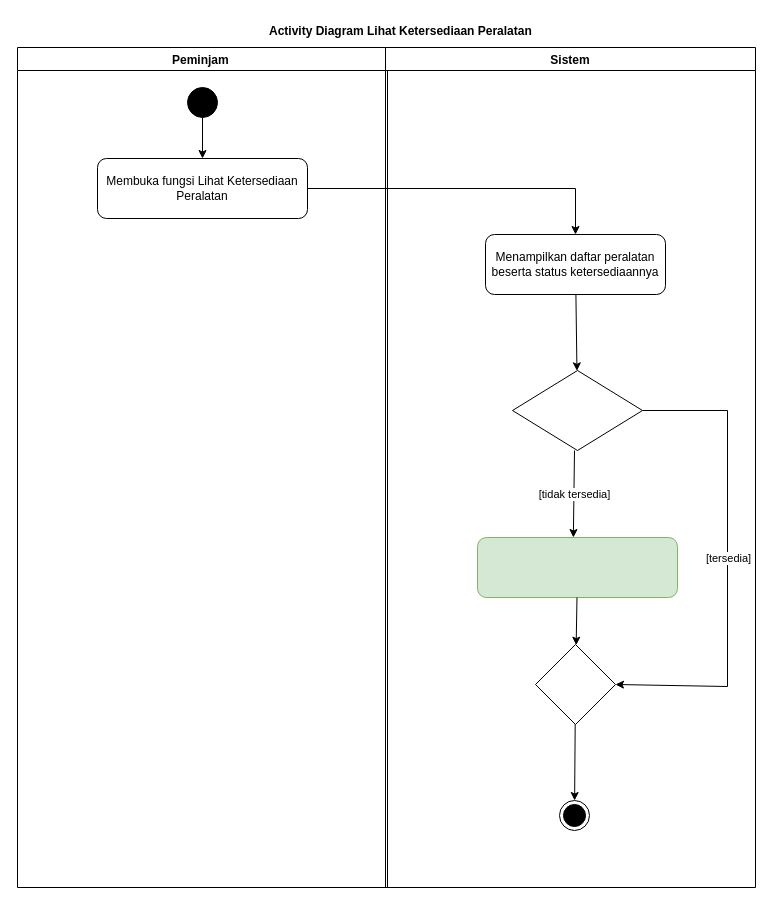
This 773x905 diagram has some shape labels left out. Here are the shapes that lost their labels. From the top down, the centre of each, then its label:
the point at 577,410: Peralatan tersedia?
the point at 577,567: Menampilkan pesan tidak ada data peralatan yang tersedia
